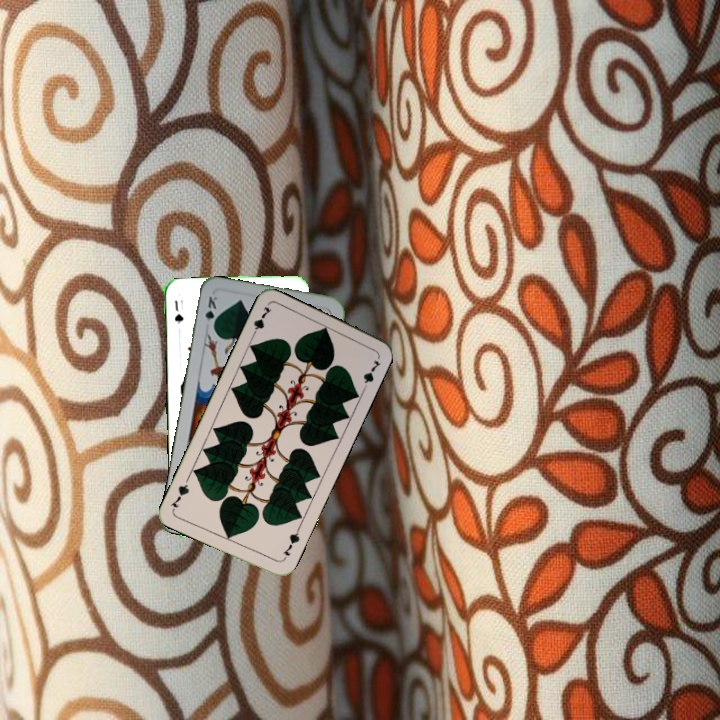G7: (248, 302, 274, 340), (278, 524, 302, 563)
GK: (201, 292, 220, 332)
GU: (171, 296, 185, 326)
